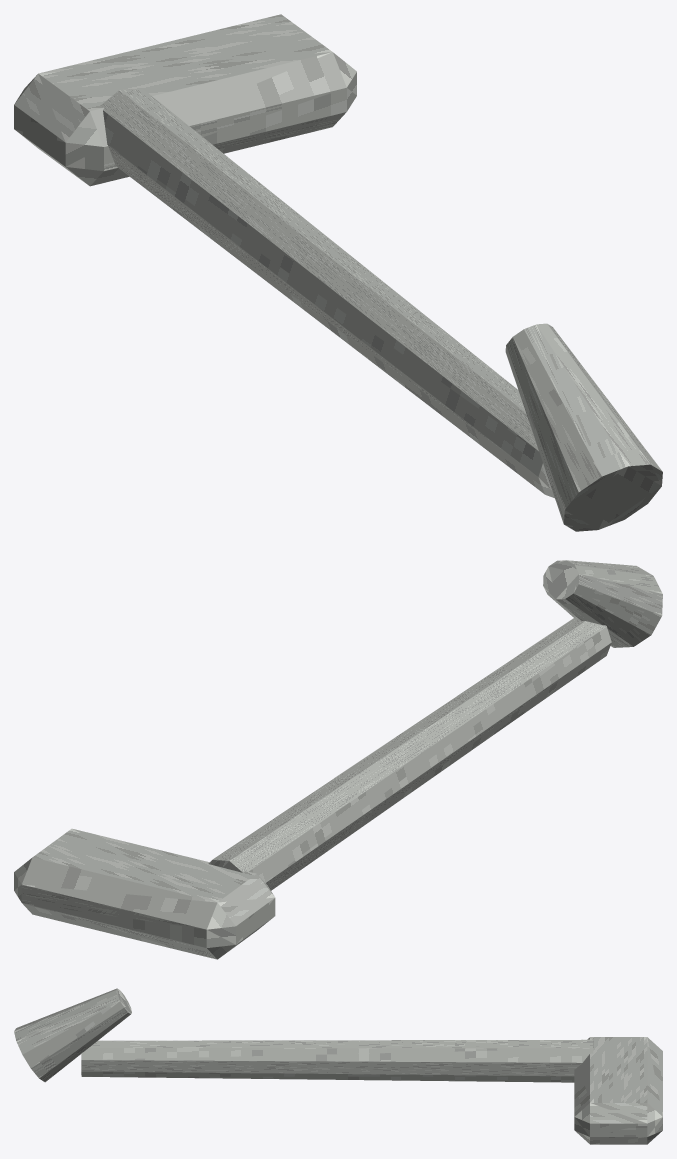
Rendered from golf_club.glb.
3 views of the same model, one above another, from view 1: azimuth 30°, elevation 25°; view 2: azimuth 150°, elevation 25°; view 3: azimuth 270°, elevation 25° (orthographic). The views are drawn at different scales.
Visible parts, largest first — view 1: block_golf shaft, block_club head, block_tapered handle; view 2: block_golf shaft, block_club head, block_tapered handle; view 3: block_golf shaft, block_club head, block_tapered handle.
Boxes of the visible parts, x1,y1,x2,y2 form: block_golf shaft: (101, 89, 554, 498); block_club head: (14, 14, 356, 186); block_tapered handle: (505, 323, 662, 531); block_golf shaft: (208, 618, 611, 890); block_club head: (14, 828, 275, 959); block_tapered handle: (543, 560, 662, 647); block_golf shaft: (81, 1039, 593, 1082); block_club head: (574, 1037, 662, 1144); block_tapered handle: (14, 988, 131, 1082).
Bounding box in the file's own units: 0.3216 × 0.1761 × 1.1.
1 material, 1 textured.
